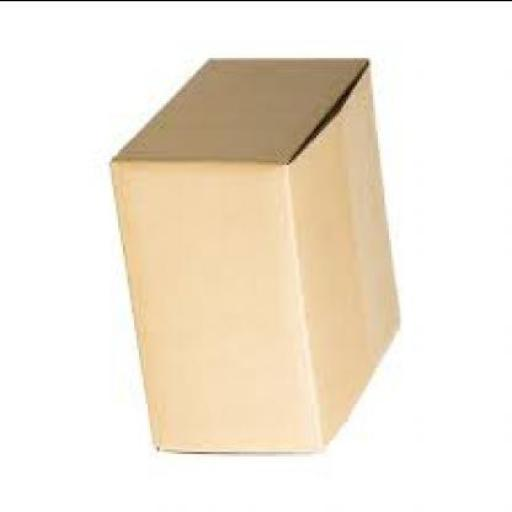cardboard: (116, 59, 403, 458)
